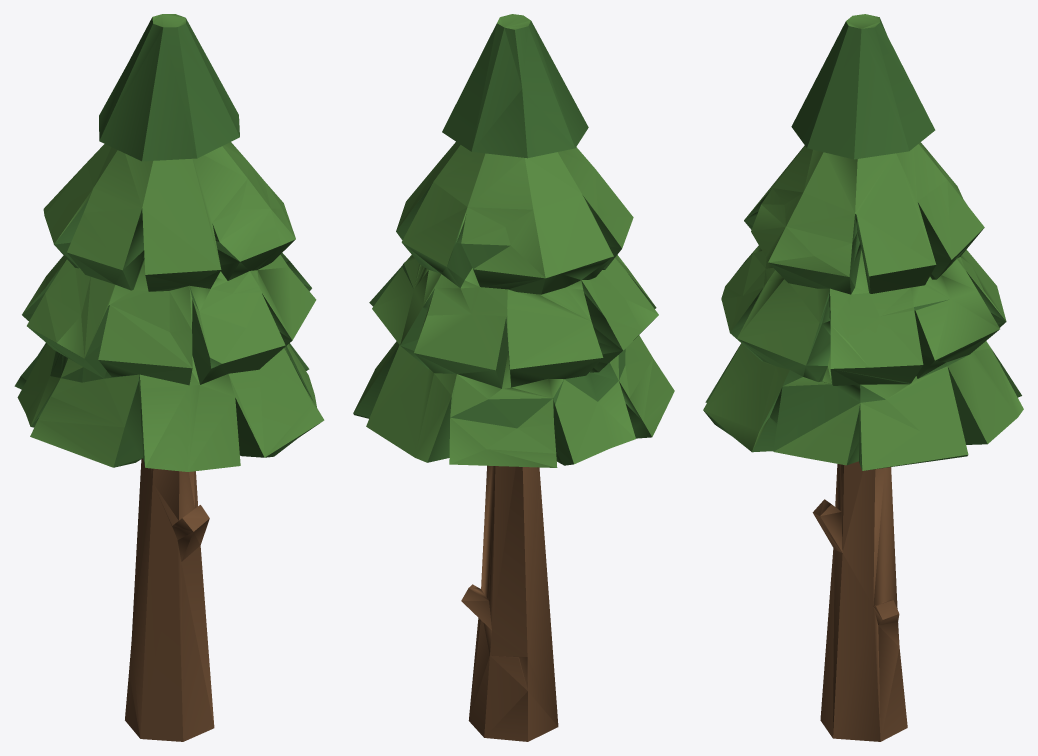
The model's file is mdvl_nature_pine_sapling_01.glb.
3 renders of one model, left to right at view 1: azimuth 30°, elevation 25°; view 2: azimuth 150°, elevation 25°; view 3: azimuth 270°, elevation 25°, orthographic.
Parts seen in each view (by area): view 1: mdvl_nature_pine_sapling_01; view 2: mdvl_nature_pine_sapling_01; view 3: mdvl_nature_pine_sapling_01.
Boxes of the visible parts, bbox=[...] form: mdvl_nature_pine_sapling_01: bbox=[14, 14, 324, 741]; mdvl_nature_pine_sapling_01: bbox=[353, 14, 674, 741]; mdvl_nature_pine_sapling_01: bbox=[703, 14, 1023, 741].
Bounding box in the file's own units: 0.6004 × 1.45 × 0.6.
1 material, 1 textured.
